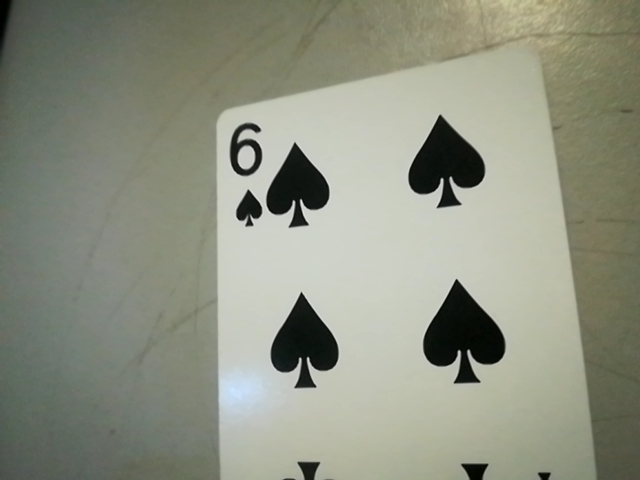ht 6: (216, 116, 272, 231)
